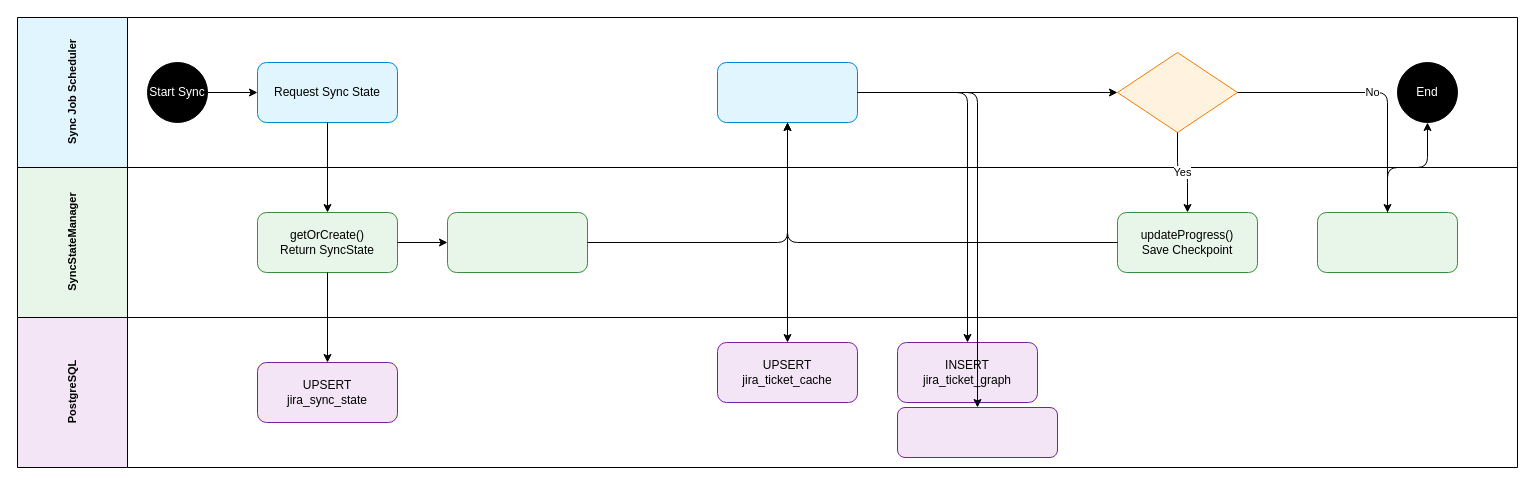
Image size: 1535x485. Some labels were removed from this diagram. The shapes that lost their labels are listed below. From the top down, each one's centre as x and y in pixels, then its label:
(787,92): Fetch Ticket Batch from Jira API
(1177,92): More batches?
(517,242): markRunning()
(1387,242): markCompleted()
(977,432): INSERT jira_attachment_queue
